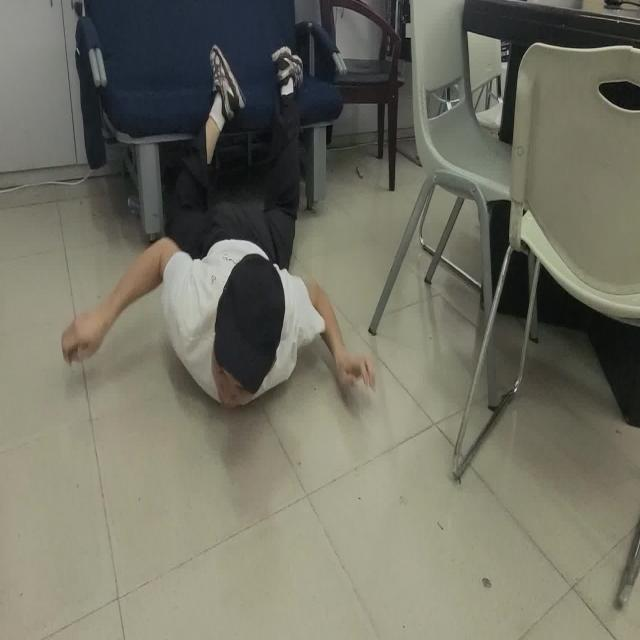Fall-Detected: (61, 42, 377, 426)
